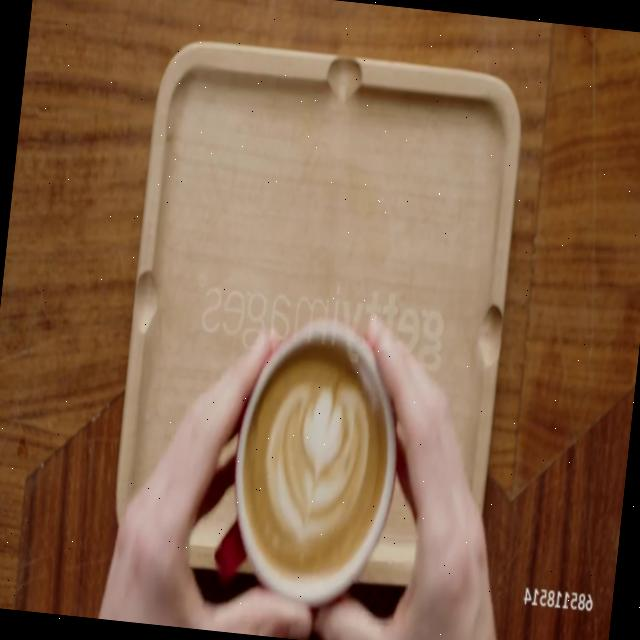cup: (212, 308, 410, 611)
tray: (107, 37, 529, 595)
